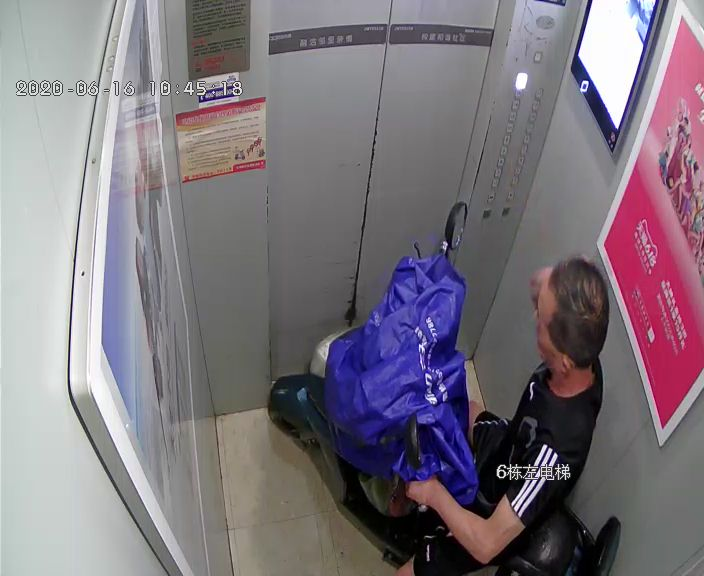Electric-bicycle: (263, 199, 618, 572)
